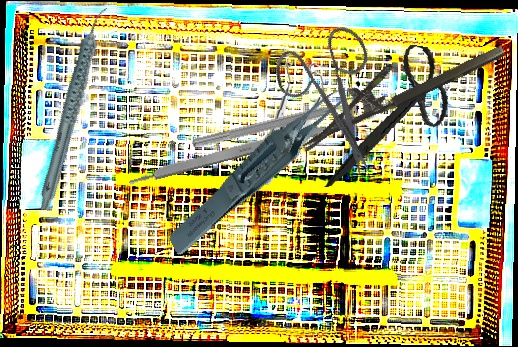Fixation Ring: (190, 88, 382, 164)
Handpiece: (1, 5, 149, 212)
Iris Scissors: (248, 5, 428, 181), (323, 33, 458, 206)
Needle Holder: (287, 18, 507, 152)
Scalpel Handle: (126, 119, 332, 187)
Speculum: (259, 47, 329, 189)
Tissue Forceps: (144, 82, 387, 257)
